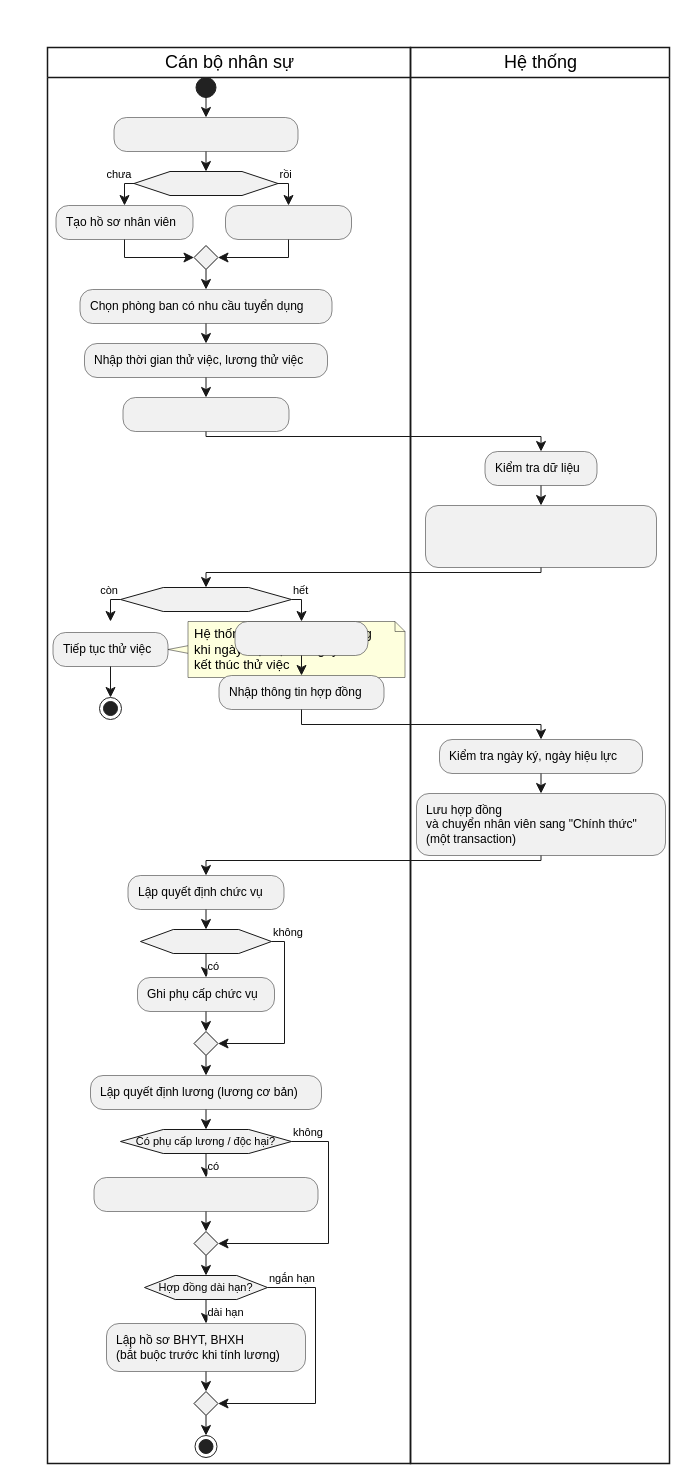
The diagram is 687 pixels wide and 1481 high, and some of its shapes have lost their labels. The shapes that lost their labels are listed below. From the top down, each one's centre as x and y in pixels, then its label:
pixel 205 134: Nhận nhân viên vào thử việc
pixel 205 183: Đã có hồ sơ nhân viên?
pixel 288 222: Dùng hồ sơ có sẵn
pixel 205 414: Nhập điều khoản hai bên
pixel 540 536: Lưu quyết định tuyển dụng và chuyển nhân viên sang "Thử việc" (một transaction)
pixel 206 599: Chưa hết thời gian thử việc?
pixel 301 638: Chọn loại hợp đồng
pixel 206 941: Có phụ cấp chức vụ?
pixel 205 1194: Ghi phụ cấp lương, phụ cấp độc hại
